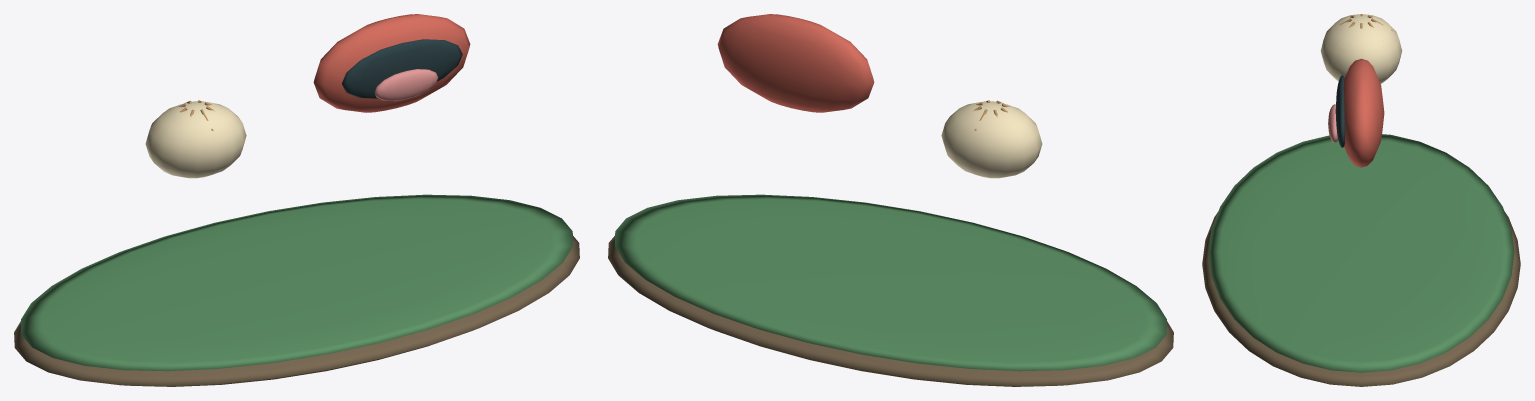
Rendered from little-snack.glb.
3 renders of one model, left to right at view 1: azimuth 30°, elevation 25°; view 2: azimuth 150°, elevation 25°; view 3: azimuth 270°, elevation 25°, orthographic. The views are drawn at different scales.
Parts seen in each view (by area): view 1: little-snack_surface_01, little-snack_surface_00, little-snack_surface_04, little-snack_surface_02, little-snack_surface_05, little-snack_surface_06; view 2: little-snack_surface_01, little-snack_surface_04, little-snack_surface_00, little-snack_surface_02; view 3: little-snack_surface_01, little-snack_surface_00, little-snack_surface_02, little-snack_surface_04, little-snack_surface_05, little-snack_surface_06.
Part boxes in pixels (x1,y1,x2,y2): little-snack_surface_01: [21, 194, 572, 371]; little-snack_surface_00: [14, 236, 579, 386]; little-snack_surface_04: [313, 14, 470, 112]; little-snack_surface_02: [145, 101, 246, 178]; little-snack_surface_05: [342, 39, 462, 98]; little-snack_surface_06: [374, 69, 438, 101]; little-snack_surface_01: [615, 194, 1166, 371]; little-snack_surface_04: [717, 14, 874, 112]; little-snack_surface_00: [608, 236, 1173, 386]; little-snack_surface_02: [941, 101, 1042, 178]; little-snack_surface_01: [1208, 134, 1514, 372]; little-snack_surface_00: [1202, 212, 1520, 386]; little-snack_surface_02: [1320, 14, 1402, 83]; little-snack_surface_04: [1343, 58, 1384, 167]; little-snack_surface_05: [1335, 75, 1345, 147]; little-snack_surface_06: [1328, 104, 1338, 142].
Bounding box in the file's own units: 4.56 × 2.17 × 2.5.
